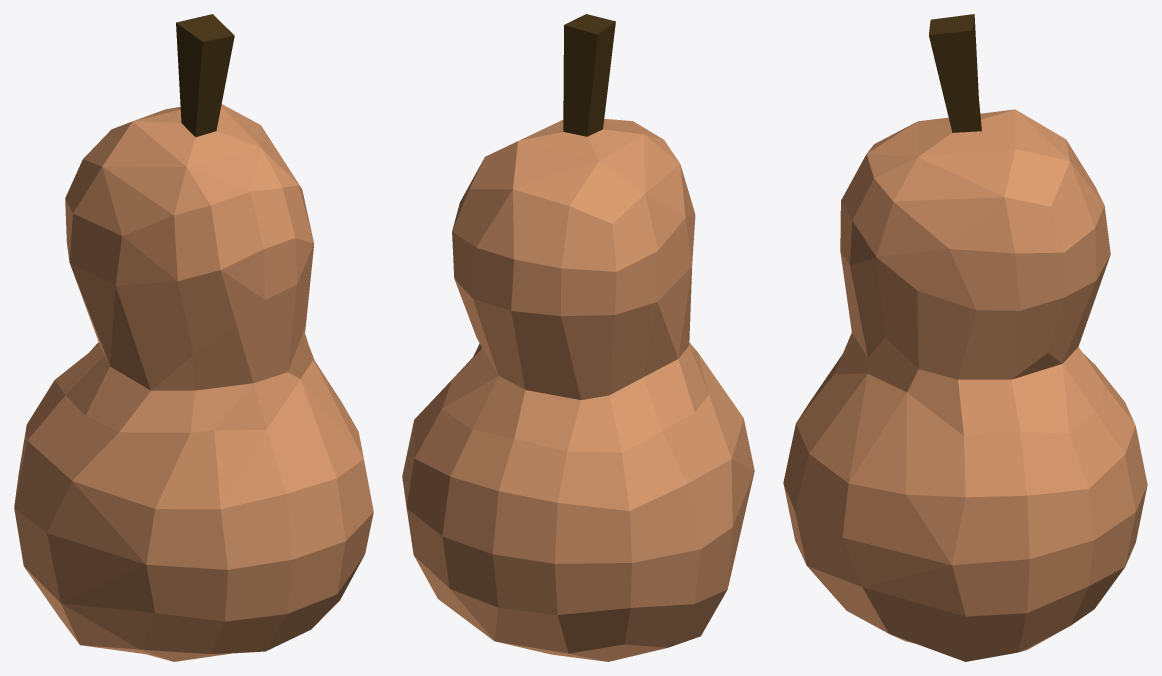
File: pumpking2.fbx
The picture shows the model from 3 angles, left to right: view 1: azimuth 30°, elevation 25°; view 2: azimuth 150°, elevation 25°; view 3: azimuth 270°, elevation 25°; orthographic projection. The views are drawn at different scales.
Visible parts, largest first — view 1: pumpking2; view 2: pumpking2; view 3: pumpking2.
Boxes of the visible parts, left/top/right/bottom form: pumpking2: left=14, top=14, right=373, bottom=661; pumpking2: left=402, top=14, right=754, bottom=661; pumpking2: left=783, top=14, right=1147, bottom=661.
Size of the model in its own units: 62.51 by 121 by 65.96.
